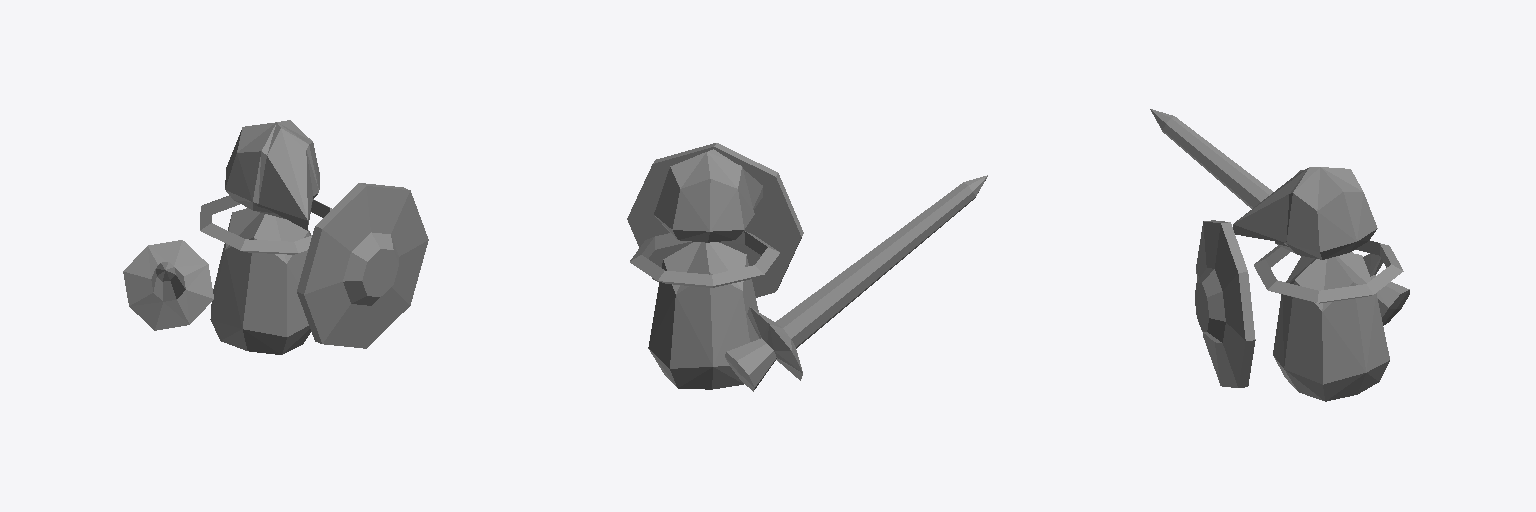
3 renders of one model, left to right at view 1: azimuth 30°, elevation 25°; view 2: azimuth 150°, elevation 25°; view 3: azimuth 270°, elevation 25°, orthographic.
Visible parts, largest first — view 1: meshMinion; view 2: meshMinion; view 3: meshMinion.
Boxes of the visible parts, <box> form: meshMinion: <box>123,120,428,354</box>; meshMinion: <box>627,143,987,391</box>; meshMinion: <box>1150,109,1409,401</box>.
Size of the model in its own units: 151 by 101 by 109.